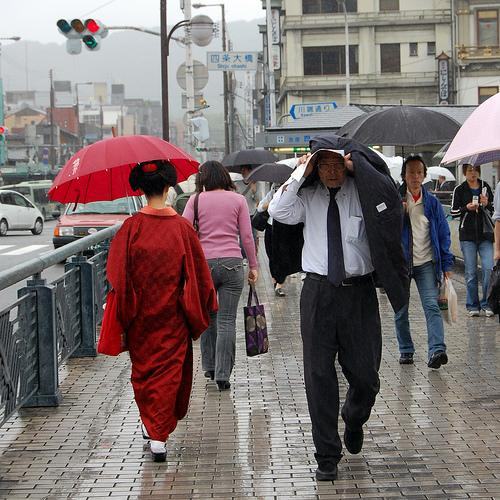person: (107, 158, 219, 466)
